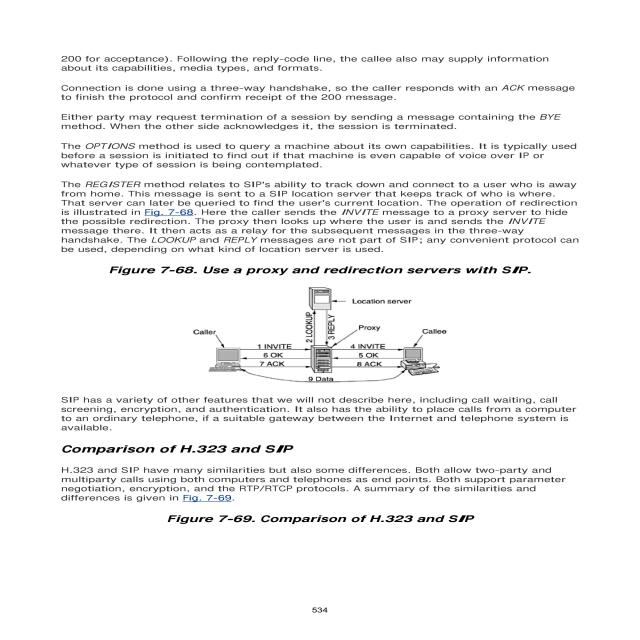diagram: (47, 259, 610, 436)
